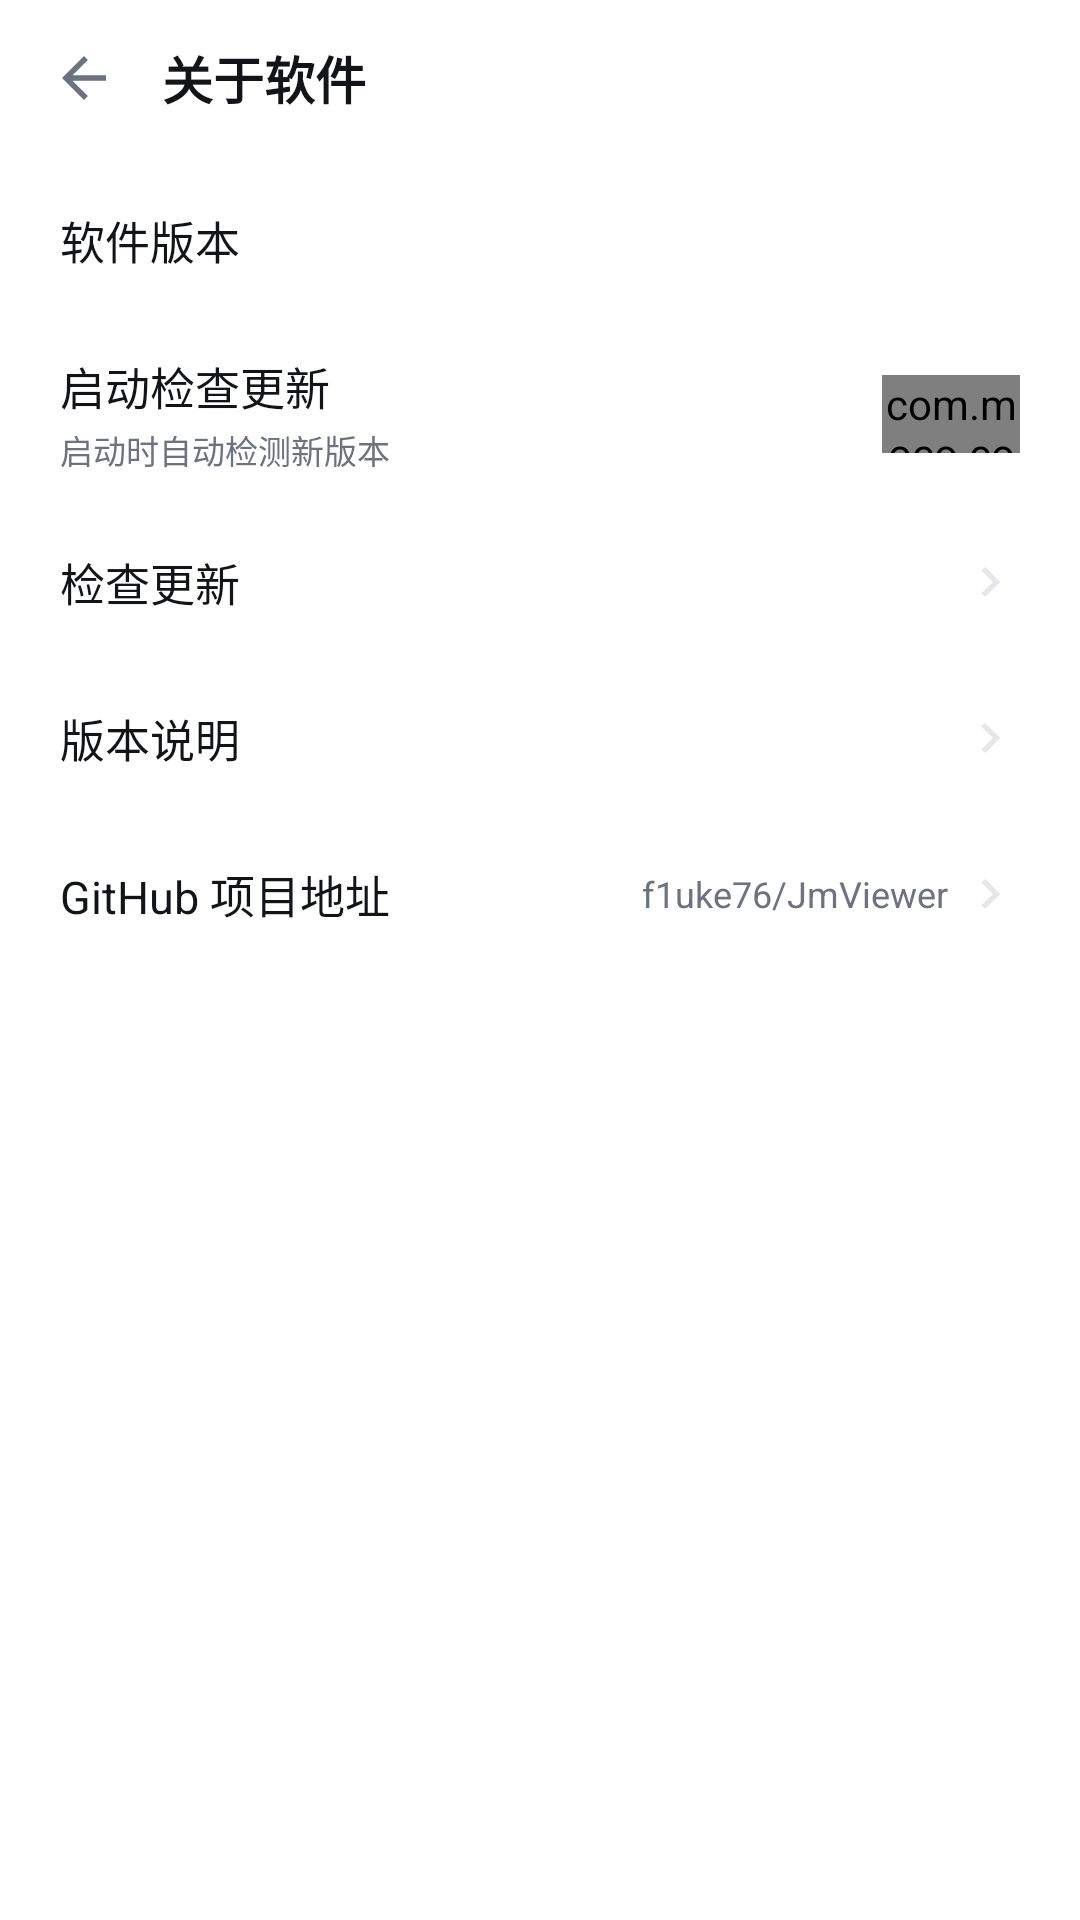

Screen size 1080×1920. Icon name, then its box in pixels as (x1, y1, x2, y2):
chevron: (982, 568, 999, 596), (982, 724, 999, 752), (982, 880, 999, 908)
返回: (62, 56, 106, 100)
